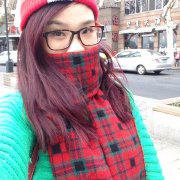WRONG: (37, 15, 100, 78)
